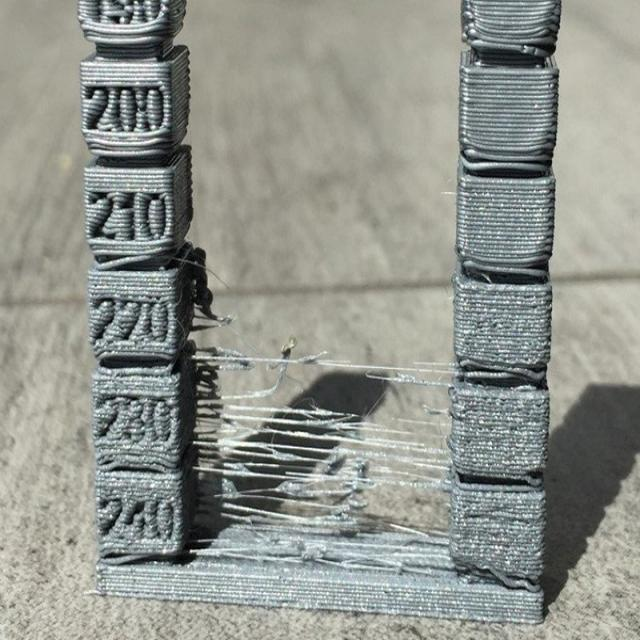Stringing: (179, 336, 461, 575), (177, 242, 236, 332)
